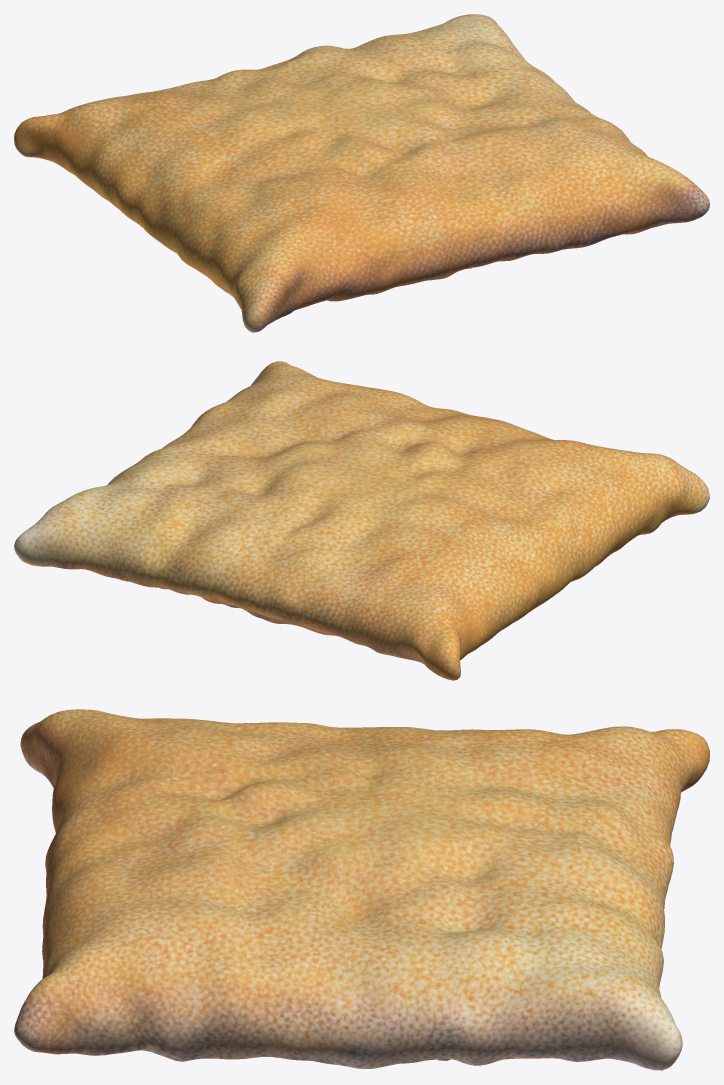
File: Carpet.fbx
The picture shows the model from 3 angles, top to bottom: view 1: azimuth 30°, elevation 25°; view 2: azimuth 150°, elevation 25°; view 3: azimuth 270°, elevation 25°; orthographic projection. The views are drawn at different scales.
Parts seen in each view (by area): view 1: Mesh1; view 2: Mesh1; view 3: Mesh1.
Part boxes in pixels (bbox=[...]): Mesh1: bbox=[14, 14, 709, 332]; Mesh1: bbox=[14, 361, 709, 680]; Mesh1: bbox=[14, 709, 709, 1070].
Size of the model in its own units: 120 by 32.52 by 111.
Materials: 1 (1 with a texture image).
